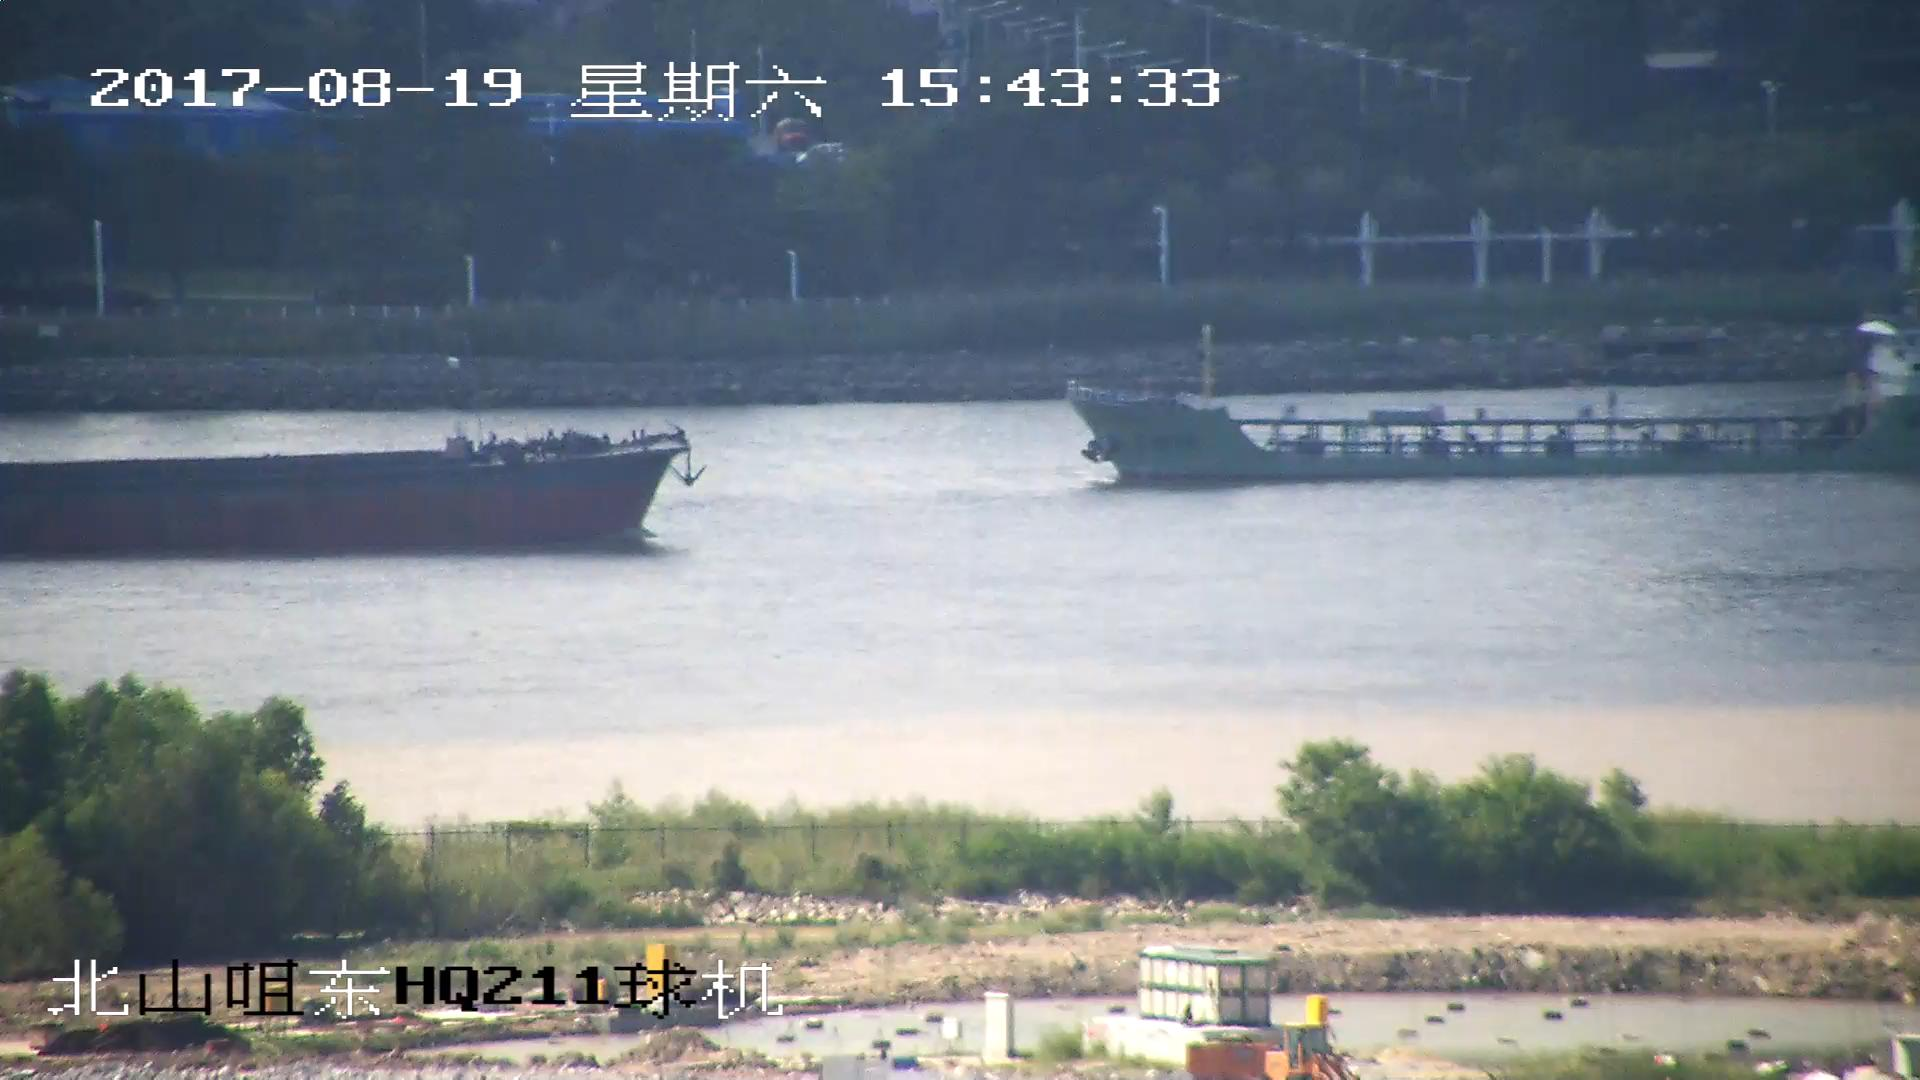bulk cargo carrier: (18, 428, 685, 562)
general cargo ship: (1067, 326, 1920, 481)
